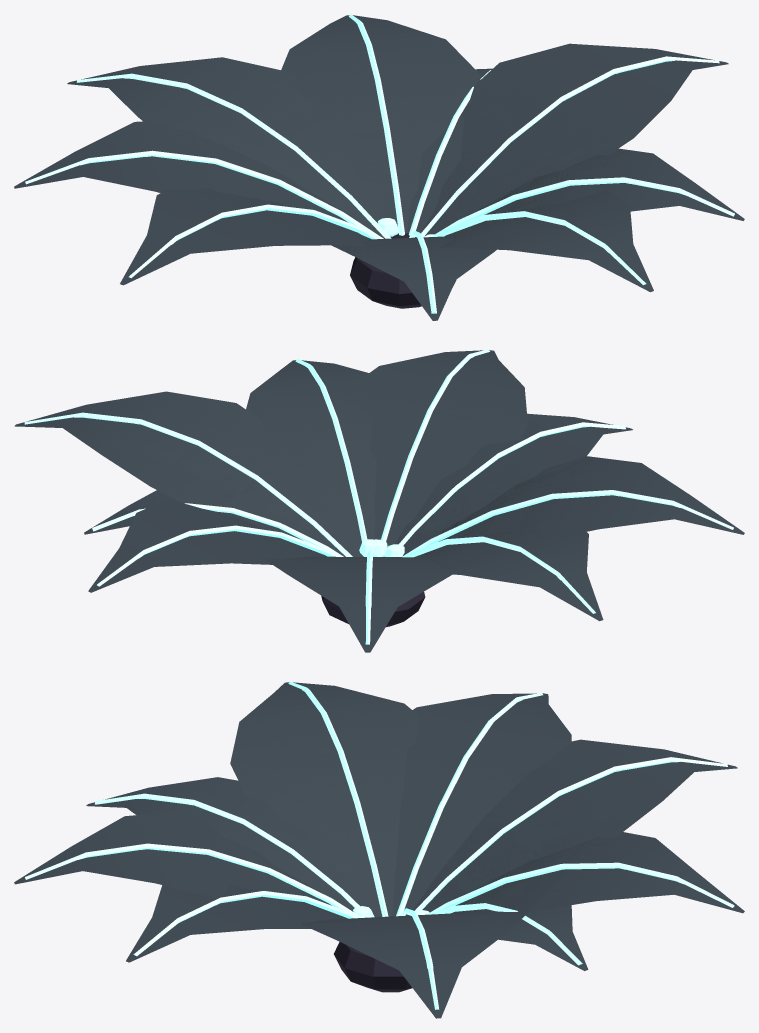
File: alien_plant_b.glb
3 renders of one model, top to bottom at view 1: azimuth 30°, elevation 25°; view 2: azimuth 150°, elevation 25°; view 3: azimuth 270°, elevation 25°, orthographic. The views are drawn at different scales.
Visible parts, largest first — view 1: alien_plant_b; view 2: alien_plant_b; view 3: alien_plant_b.
Part boxes in pixels (left/top/right/bottom): alien_plant_b: left=14, top=14, right=744, bottom=320; alien_plant_b: left=14, top=349, right=744, bottom=652; alien_plant_b: left=14, top=681, right=744, bottom=1018.
Size of the model in its own units: 3.08 by 0.7174 by 2.82.
